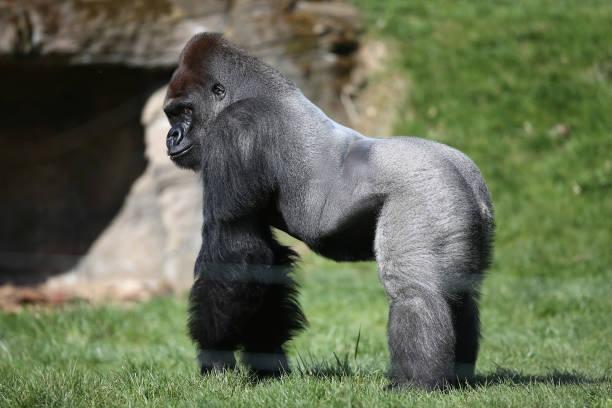gorille_Autres: (148, 0, 520, 408)
